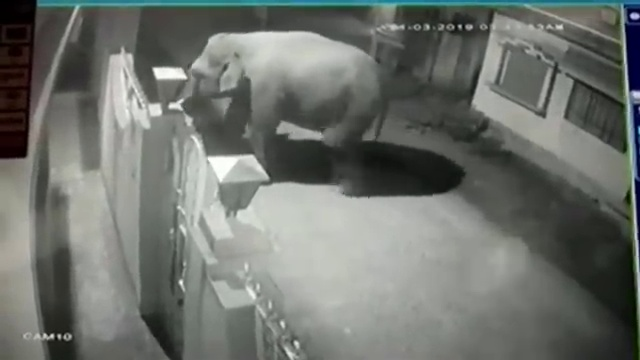Elephant: (177, 31, 388, 197)
